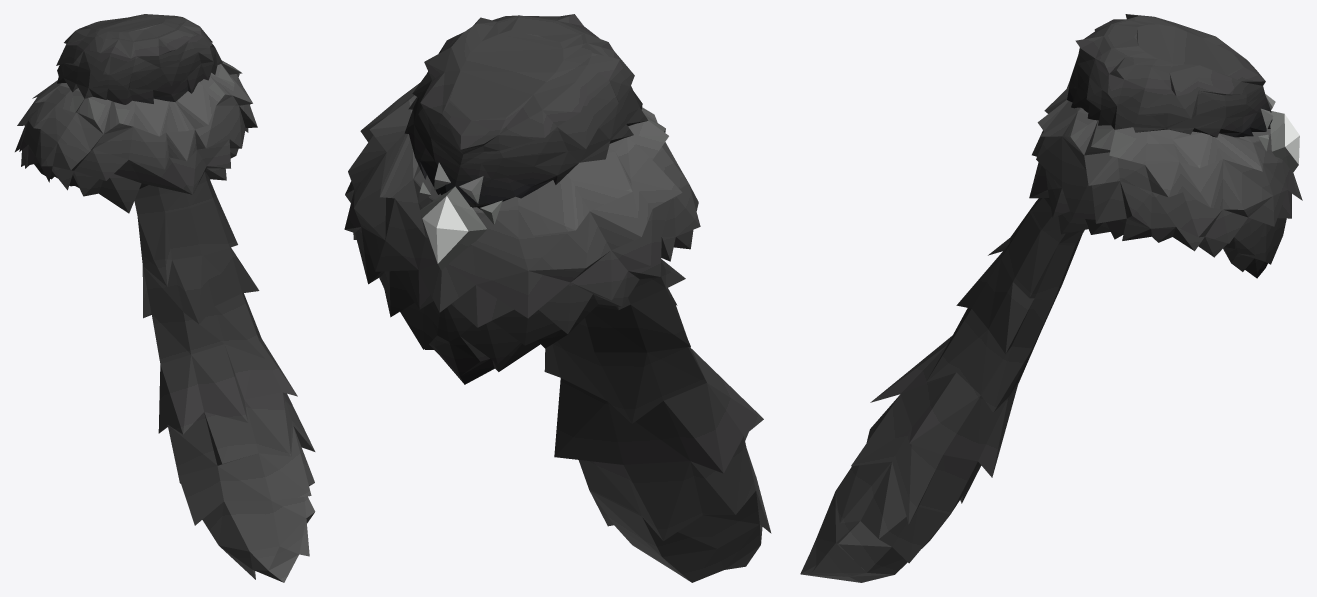
The model's file is CharSkyKid_Wing_MischiefCat.glb.
The picture shows the model from 3 angles, left to right: view 1: azimuth 30°, elevation 25°; view 2: azimuth 150°, elevation 25°; view 3: azimuth 270°, elevation 25°; orthographic projection. The views are drawn at different scales.
Visible parts, largest first — view 1: CharSkyKid_Wing_MischiefCat; view 2: CharSkyKid_Wing_MischiefCat; view 3: CharSkyKid_Wing_MischiefCat.
Part boxes in pixels (box(x1,y1,x2,y2)): CharSkyKid_Wing_MischiefCat: box(15, 14, 315, 582); CharSkyKid_Wing_MischiefCat: box(344, 14, 771, 582); CharSkyKid_Wing_MischiefCat: box(800, 14, 1302, 582).
Bounding box in the file's own units: 3.9 × 7.84 × 6.57.
Materials: 1 (1 with a texture image).
